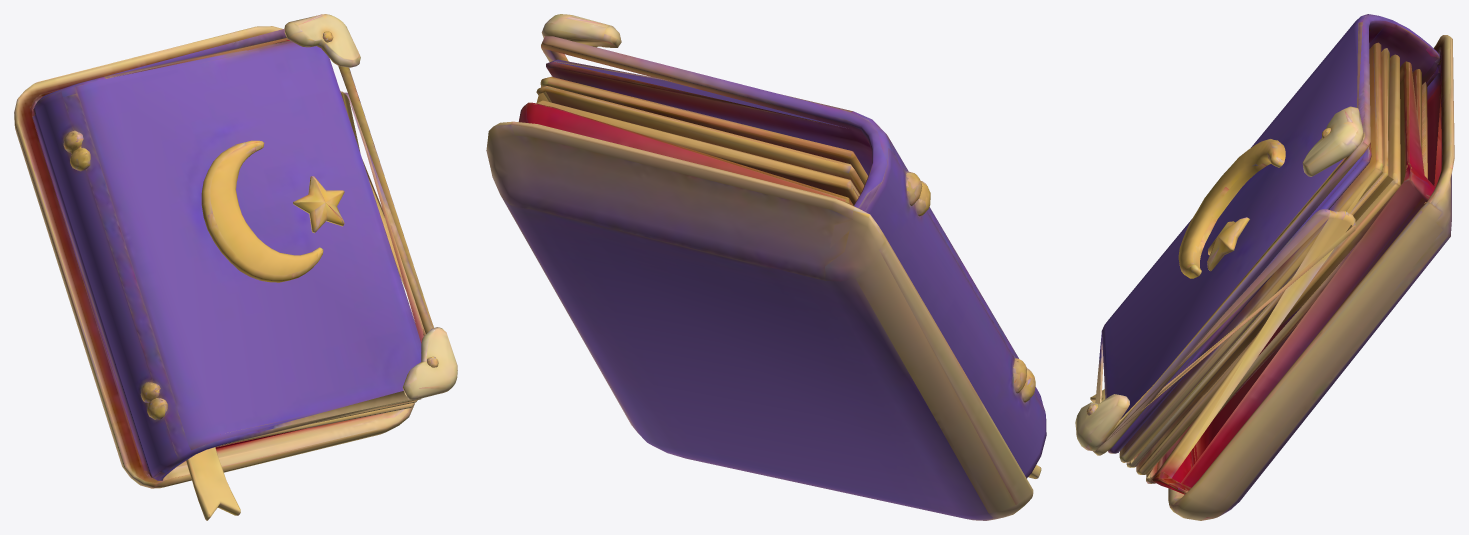
The model's file is notebook.45a7713f.glb.
The picture shows the model from 3 angles, left to right: view 1: azimuth 30°, elevation 25°; view 2: azimuth 150°, elevation 25°; view 3: azimuth 270°, elevation 25°; orthographic projection. The views are drawn at different scales.
Visible parts, largest first — view 1: tripo_node_a2c43c53-9e9a-44ac-9832-919881f330cb; view 2: tripo_node_a2c43c53-9e9a-44ac-9832-919881f330cb; view 3: tripo_node_a2c43c53-9e9a-44ac-9832-919881f330cb.
Part boxes in pixels (x1,y1,x2,y2): tripo_node_a2c43c53-9e9a-44ac-9832-919881f330cb: (14, 14, 457, 520); tripo_node_a2c43c53-9e9a-44ac-9832-919881f330cb: (486, 14, 1046, 520); tripo_node_a2c43c53-9e9a-44ac-9832-919881f330cb: (1075, 14, 1454, 520).
Bounding box in the file's own units: 0.8261 × 0.998 × 0.838.
1 material, 1 textured.
